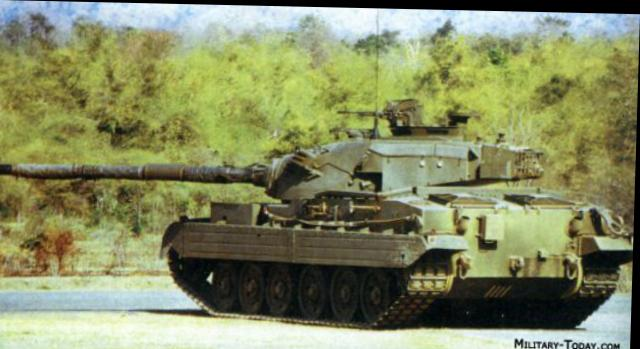tank: (165, 93, 636, 324)
